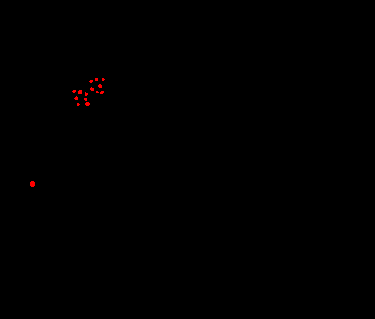Target: (30, 181, 35, 187), (85, 102, 90, 106), (98, 84, 102, 88), (90, 87, 94, 91), (78, 90, 82, 94), (74, 96, 78, 100), (89, 80, 93, 83), (72, 90, 76, 93), (100, 91, 104, 94), (85, 92, 88, 96), (95, 78, 98, 81), (102, 78, 105, 81), (84, 98, 87, 101), (77, 103, 80, 106), (96, 91, 99, 93)
